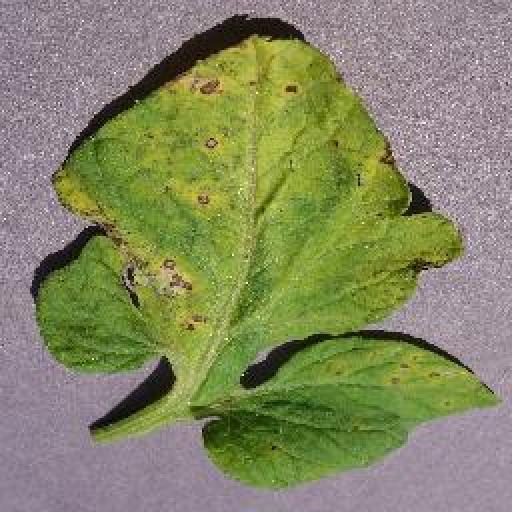Septoria: (33, 33, 500, 491)
